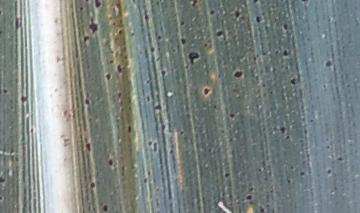tarspot: (184, 49, 201, 67), (252, 12, 266, 29), (13, 13, 24, 33), (285, 73, 300, 87), (213, 26, 227, 41), (17, 92, 30, 106), (201, 84, 213, 99), (231, 68, 246, 80), (85, 20, 100, 31), (86, 180, 98, 193), (277, 122, 289, 135), (230, 8, 242, 21), (124, 122, 135, 136), (322, 165, 334, 177), (222, 168, 233, 181), (280, 47, 293, 58), (81, 96, 92, 108), (151, 102, 163, 113), (141, 11, 153, 22), (175, 18, 187, 29), (207, 6, 218, 18), (145, 43, 156, 55), (102, 70, 112, 83), (115, 62, 125, 75), (295, 169, 308, 179), (189, 1, 203, 10), (157, 67, 168, 78), (157, 122, 168, 133), (300, 126, 311, 137), (80, 33, 92, 43), (106, 155, 114, 170), (99, 203, 111, 213), (333, 154, 345, 164), (280, 21, 290, 33), (243, 192, 255, 202), (178, 35, 188, 47), (259, 47, 269, 59), (1, 173, 9, 187), (1, 85, 11, 96), (284, 176, 294, 187), (228, 110, 237, 122), (321, 59, 333, 68), (92, 1, 105, 9), (248, 1, 261, 9), (143, 92, 153, 102), (83, 140, 92, 151), (167, 147, 176, 158), (271, 46, 280, 57), (270, 123, 277, 136), (114, 90, 124, 99), (256, 204, 266, 213), (201, 41, 211, 50), (175, 129, 186, 137), (155, 32, 163, 43), (139, 176, 150, 184), (114, 28, 126, 35), (144, 169, 156, 176), (107, 57, 116, 66), (144, 78, 153, 87), (146, 138, 154, 147), (286, 163, 296, 170), (247, 184, 255, 192), (76, 5, 84, 12)
